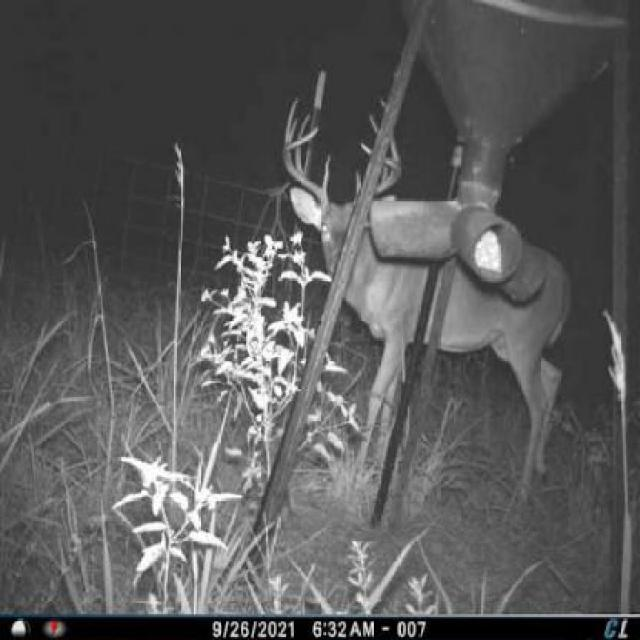Deer: (272, 84, 585, 545)
